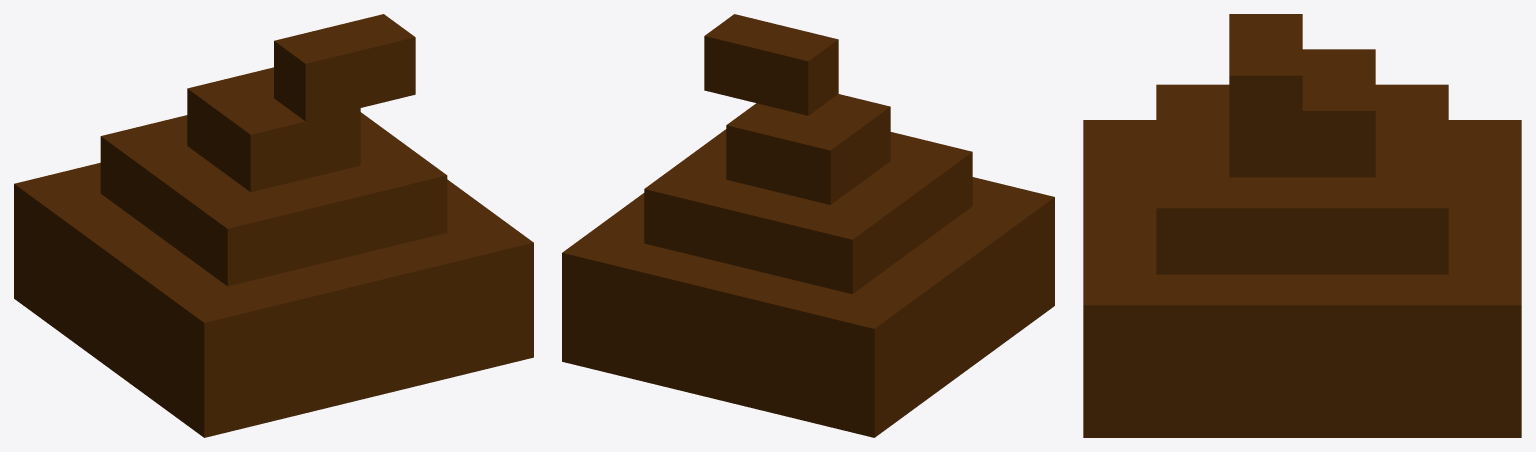
Rendered from shit_caca.obj.
3 views of the same model, side by side, from view 1: azimuth 30°, elevation 25°; view 2: azimuth 150°, elevation 25°; view 3: azimuth 270°, elevation 25° (orthographic). The views are drawn at different scales.
Size of the model in its own units: 0.6 by 0.5 by 0.6.
1 material, 1 textured.
